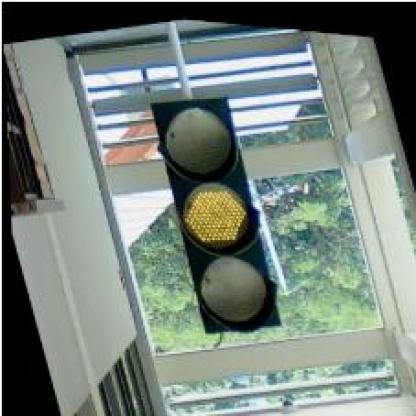yellow: (140, 80, 289, 338)
